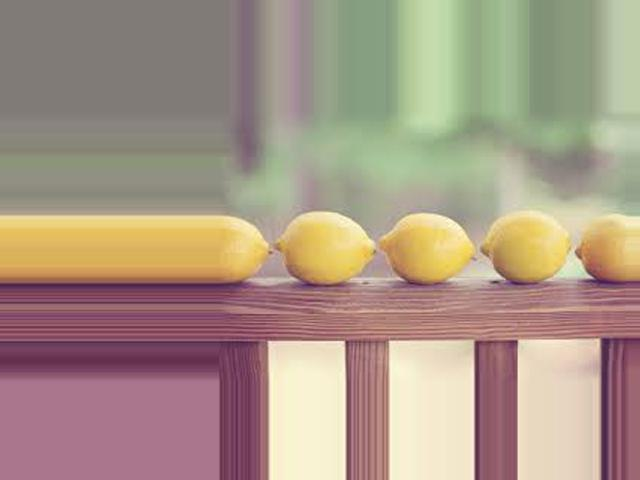lemon: (219, 212, 267, 280)
